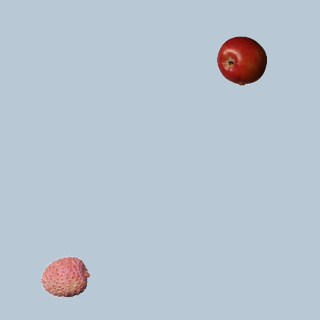Apple Braeburn: (216, 35, 266, 85)
Lychee: (40, 251, 90, 301)
